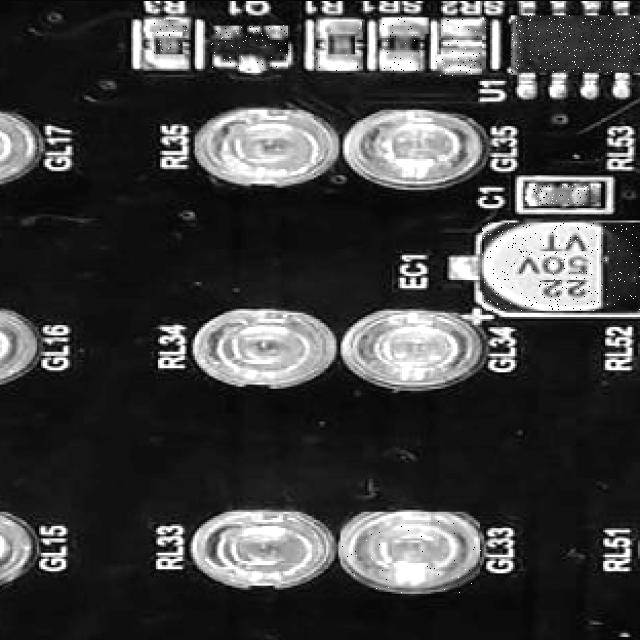Capacitor: (482, 222, 640, 310), (529, 184, 591, 204)
IC: (511, 14, 640, 72)
Mosfet: (212, 24, 290, 68)
Register: (380, 24, 422, 60), (441, 26, 482, 60), (152, 28, 182, 60), (327, 26, 354, 58)
Soldering: (437, 53, 482, 76), (382, 16, 428, 33), (316, 53, 359, 70), (382, 53, 418, 70), (441, 18, 486, 31), (146, 18, 188, 31), (140, 53, 188, 64), (322, 20, 364, 31)
led: (342, 511, 481, 595)
